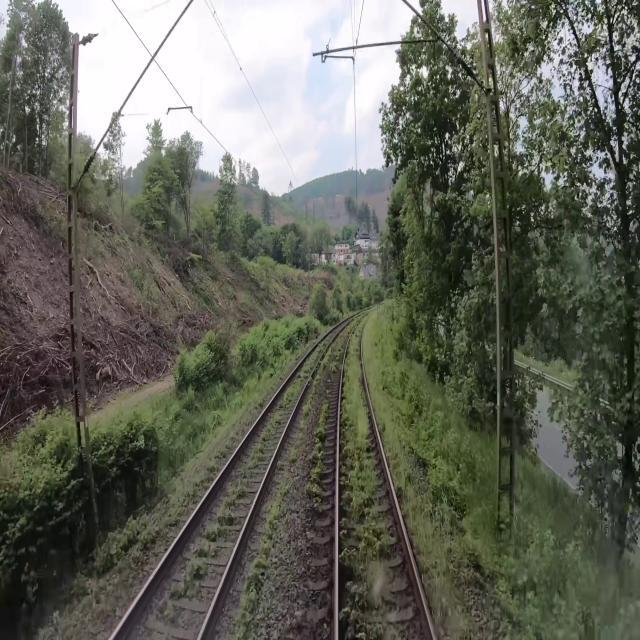Plant: (174, 343, 325, 594), (366, 321, 480, 639), (340, 313, 390, 639), (230, 485, 290, 639), (290, 347, 331, 461), (307, 403, 329, 502), (331, 314, 367, 372)
